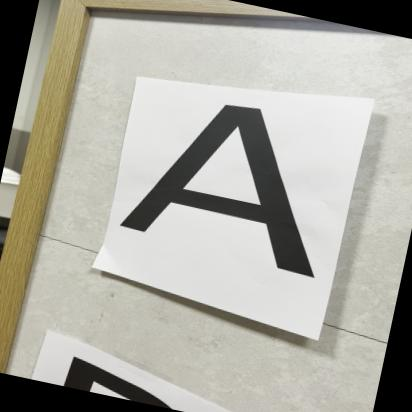seat: (82, 71, 367, 334)
